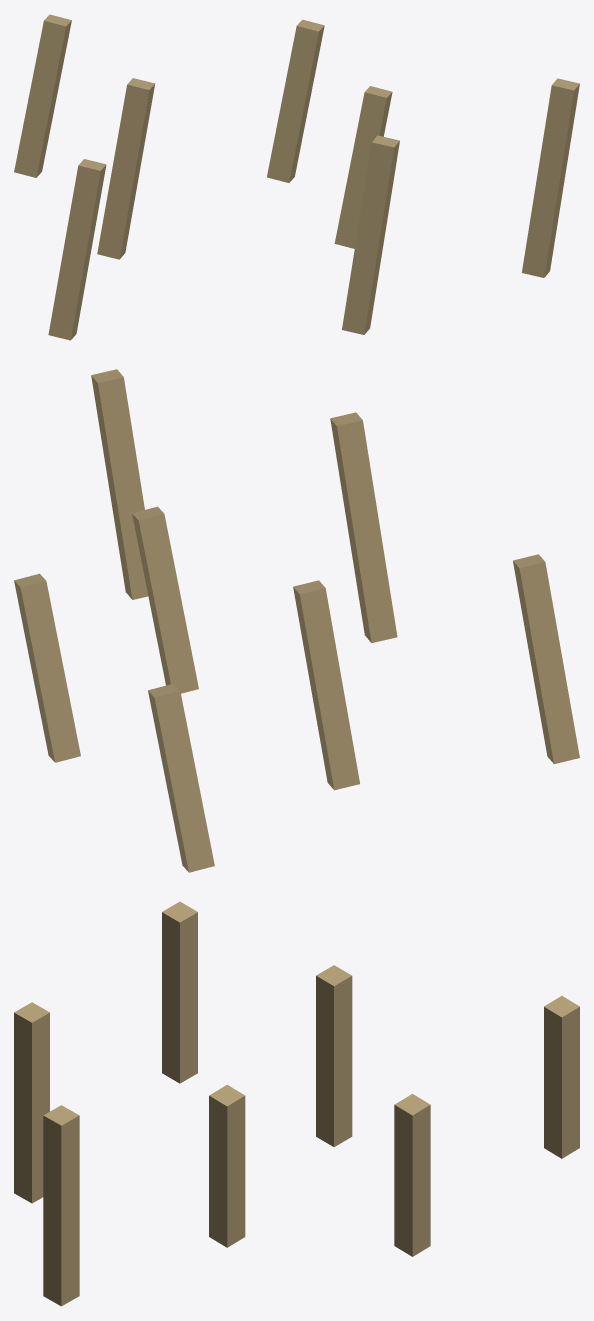
File: plant_wild_barley_spent.glb
3 renders of one model, top to bottom at view 1: azimuth 30°, elevation 25°; view 2: azimuth 150°, elevation 25°; view 3: azimuth 270°, elevation 25°, orthographic. The views are drawn at different scales.
Parts seen in each view (by area): view 1: plant_wild_barley_spent; view 2: plant_wild_barley_spent; view 3: plant_wild_barley_spent.
Part boxes in pixels (bbox=[...]): plant_wild_barley_spent: bbox=[14, 14, 579, 340]; plant_wild_barley_spent: bbox=[14, 369, 579, 872]; plant_wild_barley_spent: bbox=[14, 901, 579, 1306].
Bounding box in the file's own units: 0.3988 × 0.1486 × 0.3756.
